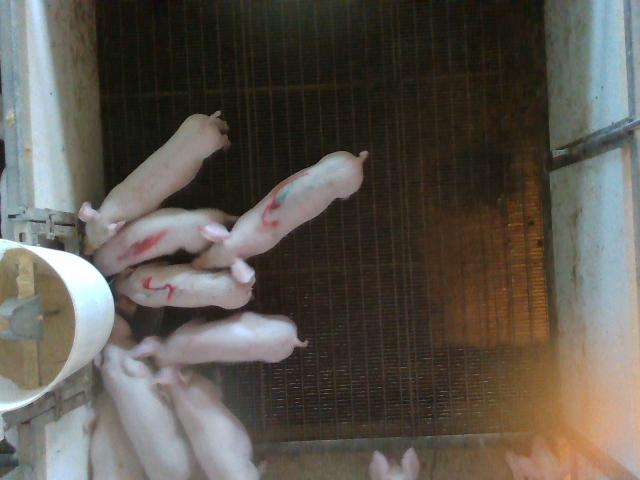pig-1: (95, 209, 236, 276)
pig-3: (194, 151, 367, 282)
pig-5: (112, 262, 254, 309)
